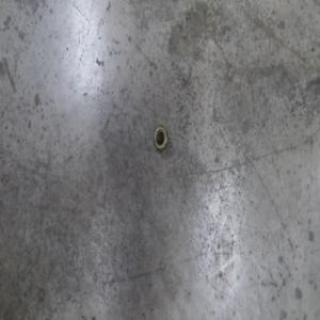Nuttrack_idkeyframe: (151, 122, 167, 154)
